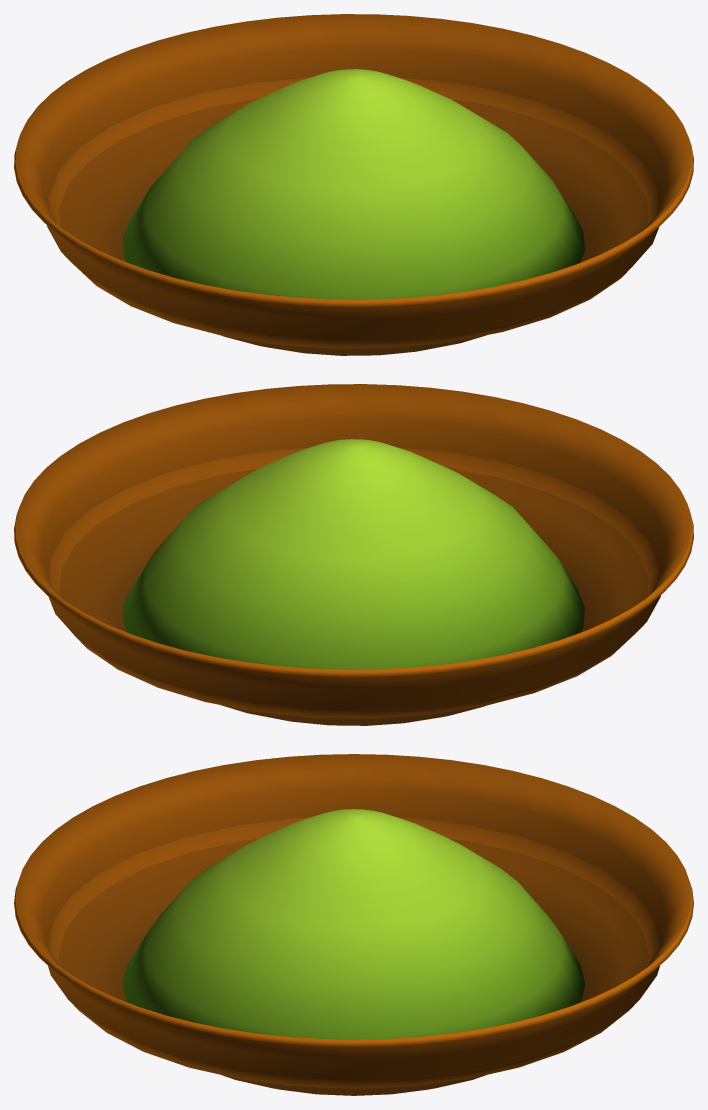
Rendered from leaves.glb.
3 views of the same model, one above another, from view 1: azimuth 30°, elevation 25°; view 2: azimuth 150°, elevation 25°; view 3: azimuth 270°, elevation 25° (orthographic).
Parts seen in each view (by area): view 1: plate; view 2: plate; view 3: plate.
Boxes of the visible parts, x1,y1,x2,y2 form: plate: (14,14,693,355); plate: (14,384,693,725); plate: (14,754,693,1095).
Bounding box in the file's own units: 0.542 × 0.1776 × 0.542.
Materials: 1 (1 with a texture image).
